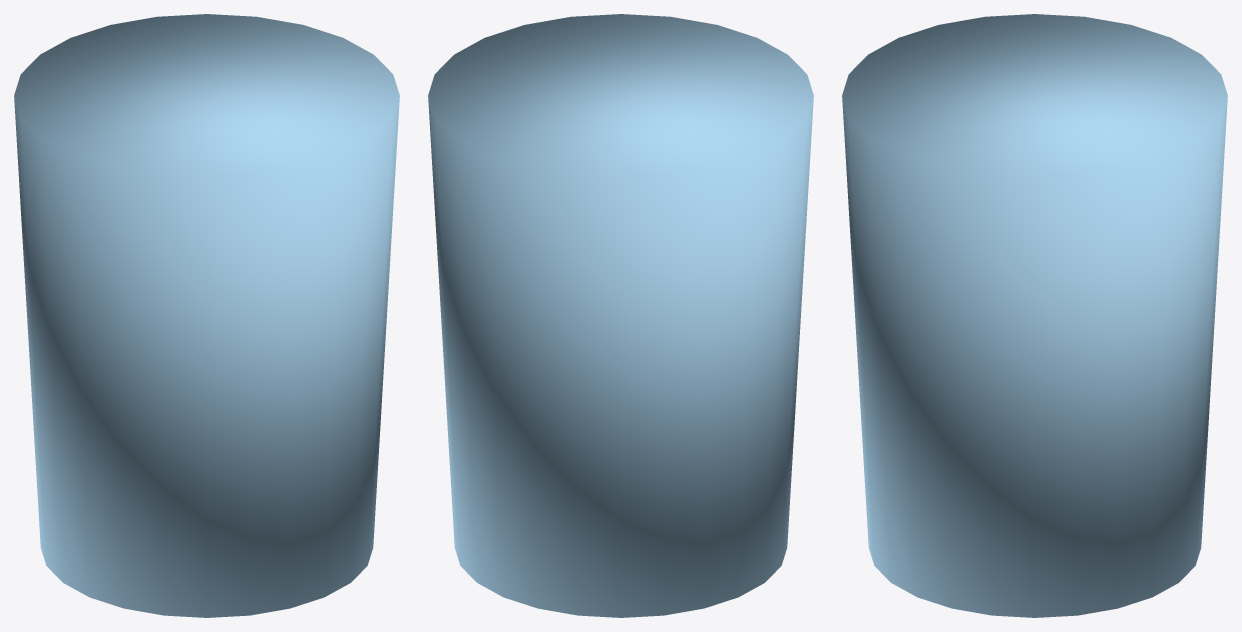
Rendered from milk.glb.
3 views of the same model, side by side, from view 1: azimuth 30°, elevation 25°; view 2: azimuth 150°, elevation 25°; view 3: azimuth 270°, elevation 25° (orthographic).
Parts seen in each view (by area): view 1: Milk; view 2: Milk; view 3: Milk.
Part boxes in pixels (bbox=[...]): Milk: bbox=[14, 14, 399, 617]; Milk: bbox=[428, 14, 813, 617]; Milk: bbox=[842, 14, 1227, 617].
Size of the model in its own units: 0.116 by 0.15 by 0.116.
